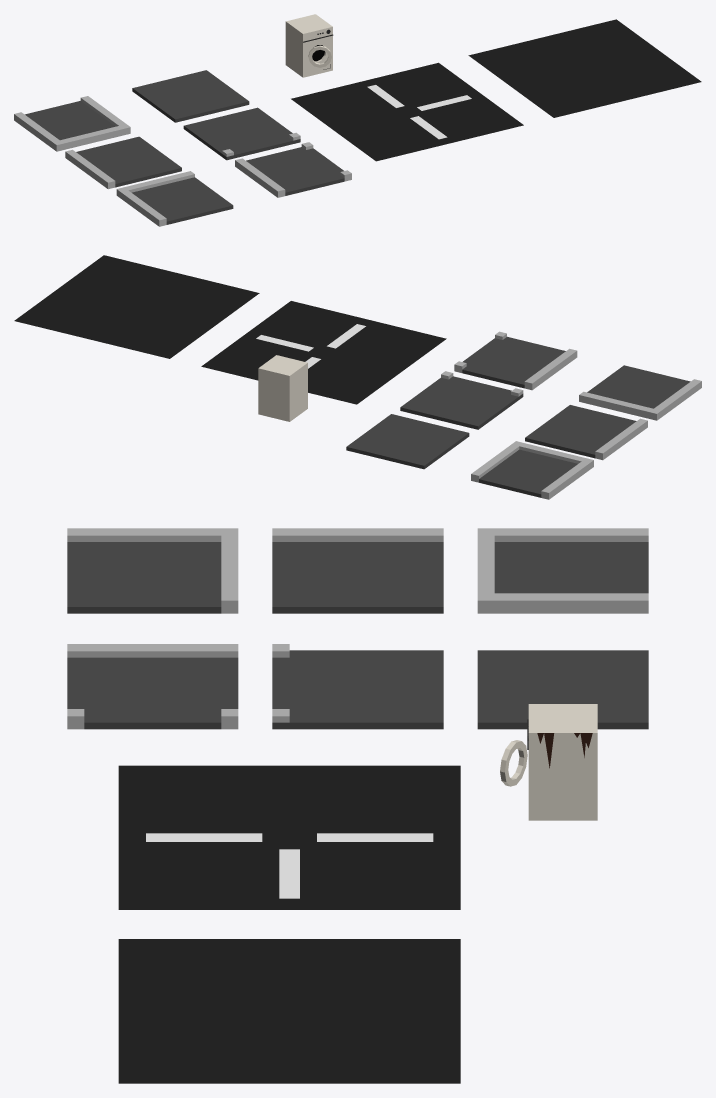
The model's file is asset pack 2.fbx.
3 views of the same model, one above another, from view 1: azimuth 30°, elevation 25°; view 2: azimuth 150°, elevation 25°; view 3: azimuth 270°, elevation 25° (orthographic). The views are drawn at different scales.
Parts seen in each view (by area): view 1: cesta, cesta.003, chodnik.085, chodnik.059, chodnik.073, chodnik.083, chodnik.087, chodnik.081, pracka; view 2: cesta, cesta.003, chodnik.059, chodnik.073, chodnik.087, chodnik.085, chodnik.083, chodnik.081, pracka; view 3: cesta, cesta.003, chodnik.083, chodnik.085, chodnik.059, chodnik.073, chodnik.087, chodnik.081, pracka.
Boxes of the visible parts, x1,y1,x2,y2 form: cesta: (468, 19, 701, 117); cesta.003: (291, 62, 523, 161); chodnik.085: (116, 171, 233, 226); chodnik.059: (14, 96, 130, 151); chodnik.073: (235, 142, 351, 197); chodnik.083: (65, 136, 181, 189); chodnik.087: (183, 107, 300, 160); chodnik.081: (132, 70, 249, 122); pracka: (285, 14, 333, 77); cesta: (14, 255, 259, 358); cesta.003: (201, 301, 446, 404); chodnik.059: (471, 441, 593, 499); chodnik.073: (454, 331, 577, 390); chodnik.087: (400, 371, 523, 429); chodnik.085: (579, 365, 701, 420); chodnik.083: (525, 405, 647, 460); chodnik.081: (346, 414, 469, 469); pracka: (258, 355, 308, 421); cesta: (118, 939, 460, 1083); cesta.003: (118, 765, 460, 909); chodnik.083: (272, 528, 443, 613); chodnik.085: (67, 528, 238, 613); chodnik.059: (477, 528, 648, 613); chodnik.073: (67, 644, 238, 729); chodnik.087: (272, 644, 443, 729); chodnik.081: (477, 650, 648, 729); pracka: (500, 704, 597, 820).
Size of the model in its own units: 1875 by 146 by 850.
Materials: 2 (2 with a texture image).
